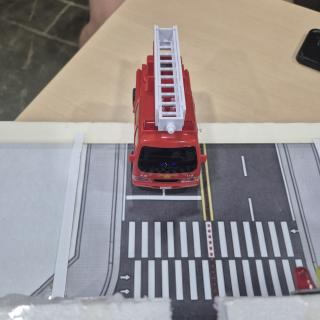Fire_truck: (129, 26, 206, 189)
